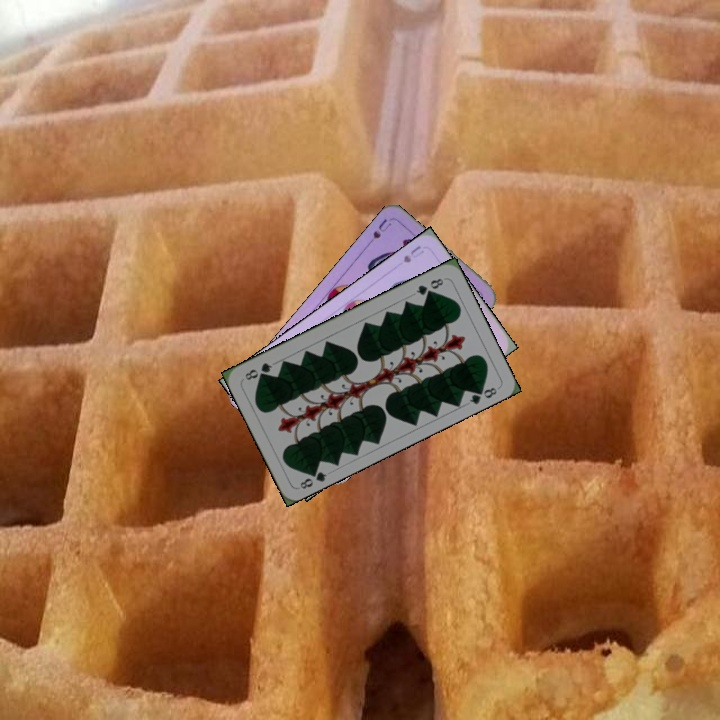G8: (296, 464, 330, 492), (412, 274, 446, 298)
SU: (361, 214, 394, 250), (399, 241, 427, 265)
